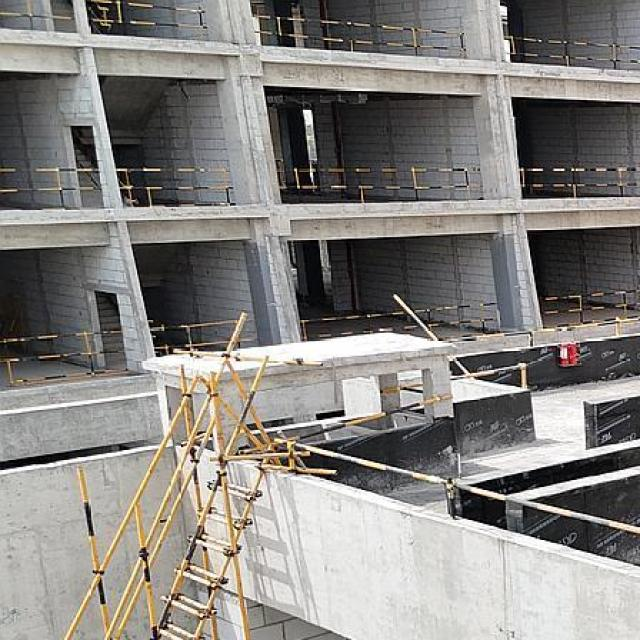edge_guardrail: (273, 437, 640, 534), (390, 293, 640, 348), (252, 13, 467, 58), (286, 392, 455, 442), (300, 302, 500, 342), (276, 166, 484, 204), (0, 329, 130, 387), (89, 0, 207, 41), (503, 36, 640, 70), (380, 363, 527, 394), (116, 169, 235, 207), (0, 167, 101, 208), (517, 166, 640, 198), (538, 289, 640, 324), (150, 319, 256, 351), (0, 0, 74, 30)
